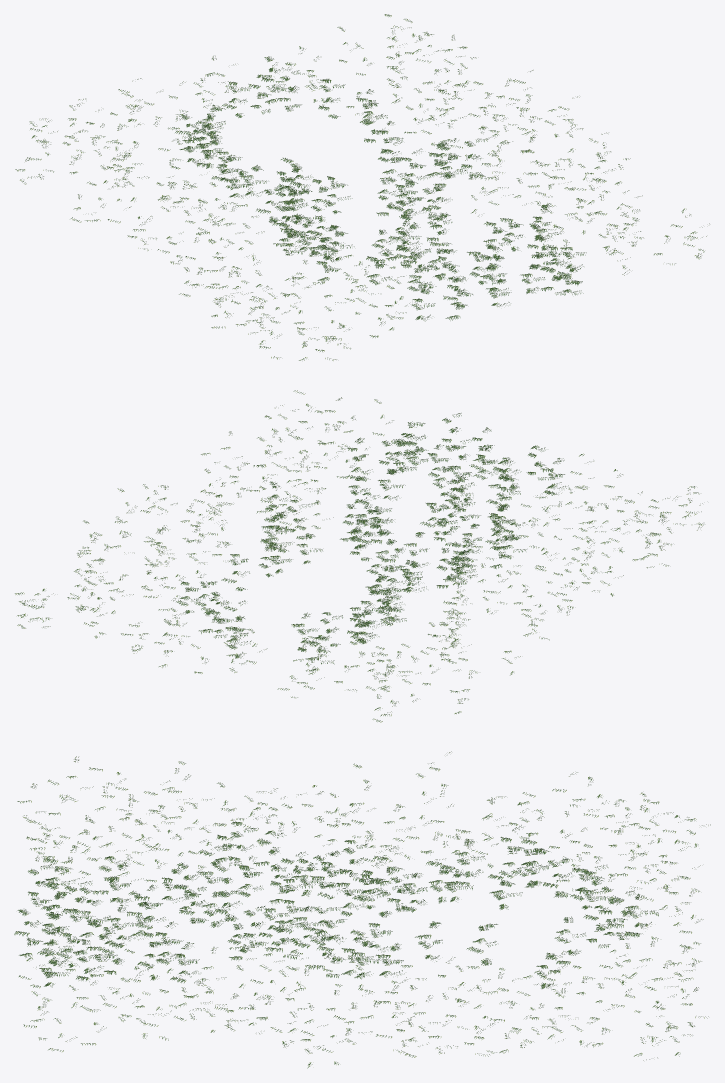
Rendered from bamboo_leaves_3.glb.
3 views of the same model, one above another, from view 1: azimuth 30°, elevation 25°; view 2: azimuth 150°, elevation 25°; view 3: azimuth 270°, elevation 25° (orthographic). The views are drawn at different scales.
Visible parts, largest first — view 1: bamboo_leaves_30, bamboo_leaves_31, bamboo_leaves_32; view 2: bamboo_leaves_30, bamboo_leaves_31, bamboo_leaves_32; view 3: bamboo_leaves_30, bamboo_leaves_31, bamboo_leaves_32.
Boxes of the visible parts, x1,y1,x2,y2 form: bamboo_leaves_30: (15, 14, 579, 250); bamboo_leaves_31: (157, 117, 639, 328); bamboo_leaves_32: (236, 195, 709, 360); bamboo_leaves_30: (15, 488, 574, 722); bamboo_leaves_31: (140, 431, 668, 611); bamboo_leaves_32: (257, 390, 703, 552); bamboo_leaves_30: (349, 751, 710, 1060); bamboo_leaves_31: (135, 761, 380, 1068); bamboo_leaves_32: (14, 756, 171, 1051).
Size of the model in its own units: 83.46 by 10.51 by 94.23.
1 material, 1 textured.
